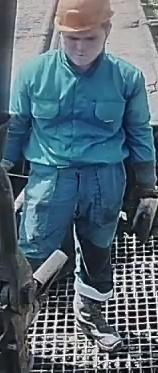gloves: (125, 188, 158, 245)
helmet: (53, 0, 114, 38)
vest: (5, 55, 156, 180)
